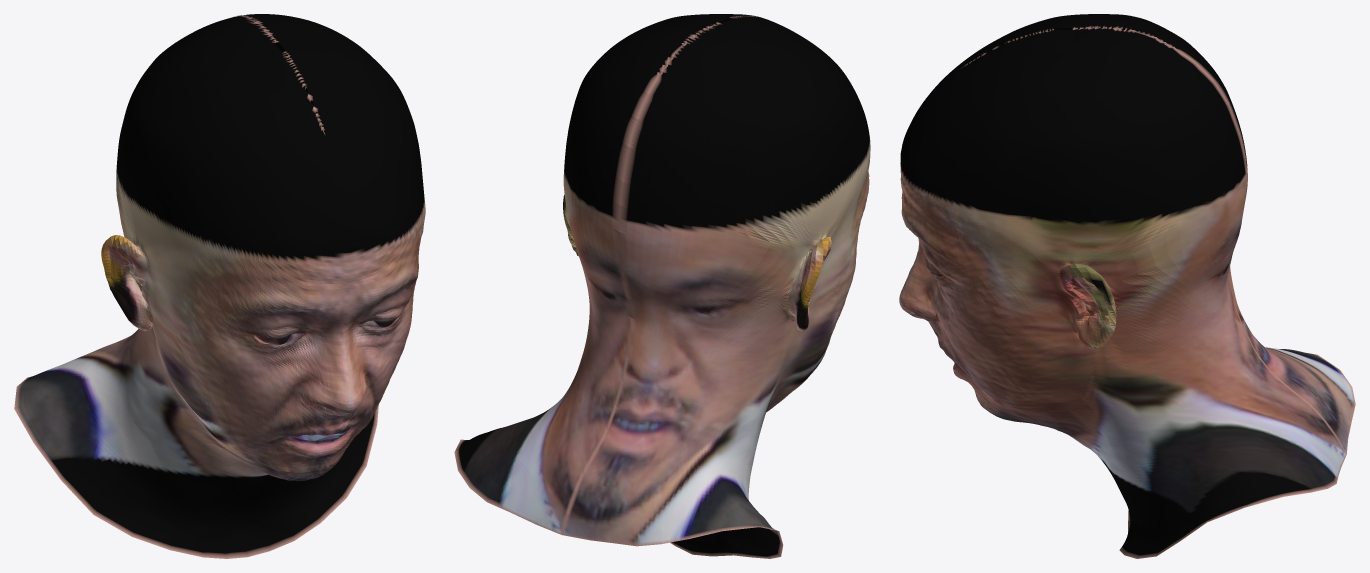
File: mesh_coarse_detail.obj
The picture shows the model from 3 angles, left to right: view 1: azimuth 30°, elevation 25°; view 2: azimuth 150°, elevation 25°; view 3: azimuth 270°, elevation 25°; orthographic projection. The views are drawn at different scales.
Size of the model in its own units: 0.2121 by 0.3269 by 0.2637.
